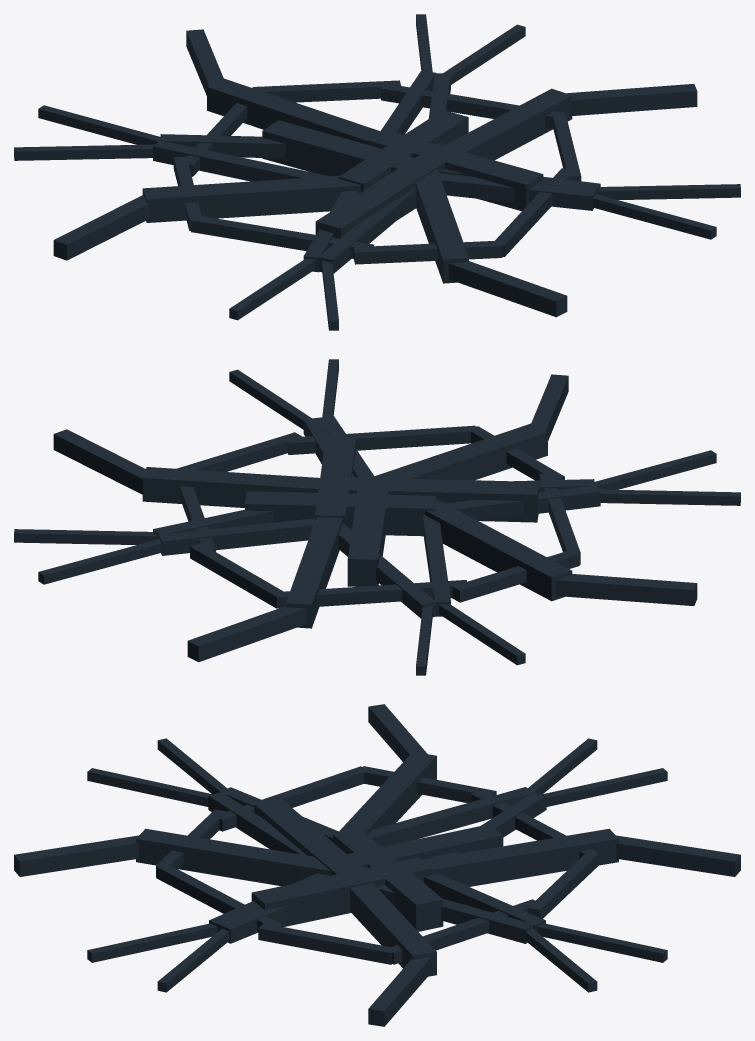
File: CMU3DHiveXenoHardyWeeds.glb
3 views of the same model, one above another, from view 1: azimuth 30°, elevation 25°; view 2: azimuth 150°, elevation 25°; view 3: azimuth 270°, elevation 25° (orthographic).
Visible parts, largest first — view 1: connected ground rhizome (×12), forked ground filament (×16), interwoven root loop (×8); view 2: connected ground rhizome (×12), forked ground filament (×16), interwoven root loop (×8); view 3: connected ground rhizome (×12), forked ground filament (×16), interwoven root loop (×8).
Boxes of the visible parts, x1,y1,x2,y2 form: connected ground rhizome (×12): (53,29,697,317); forked ground filament (×16): (14,14,740,330); interwoven root loop (×8): (173,80,581,264); connected ground rhizome (×12): (53,374,697,662); forked ground filament (×16): (14,359,740,675); interwoven root loop (×8): (177,425,580,608); connected ground rhizome (×12): (14,704,740,1026); forked ground filament (×16): (87,738,667,992); interwoven root loop (×8): (156,766,598,964).
Bounding box in the file's own units: 1.02 × 0.042 × 1.02.
